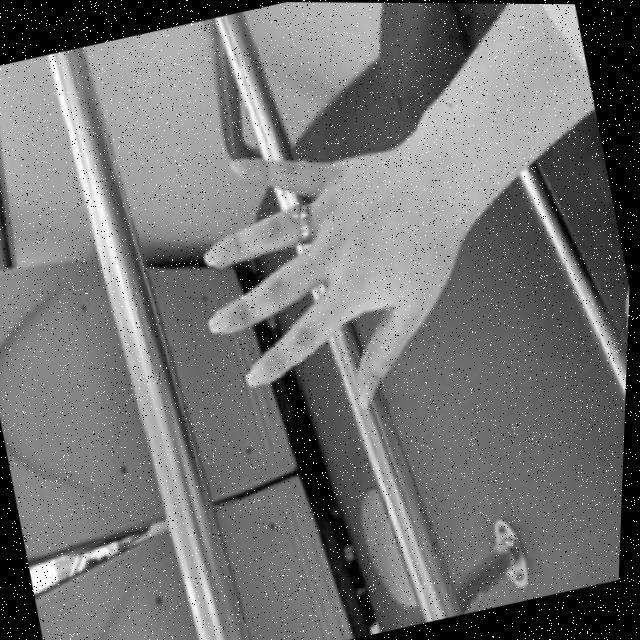hand: (169, 112, 491, 443)
